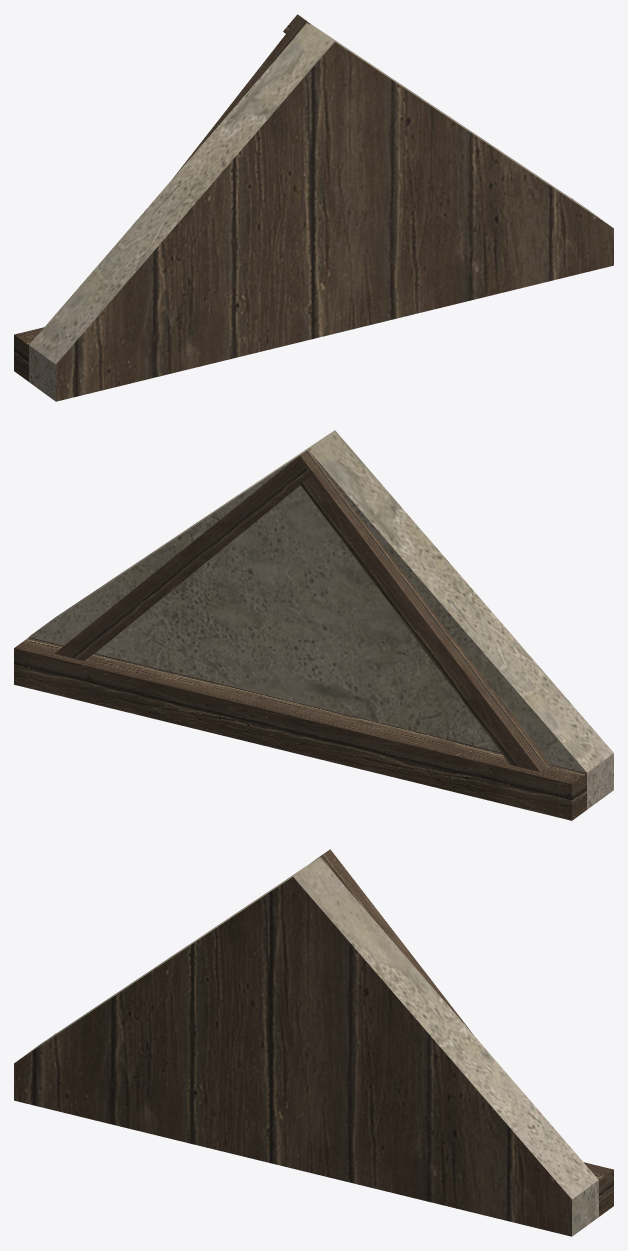
Rendered from ARC1010250.fbx.
3 views of the same model, one above another, from view 1: azimuth 30°, elevation 25°; view 2: azimuth 150°, elevation 25°; view 3: azimuth 330°, elevation 25° (orthographic).
Parts seen in each view (by area): view 1: smARC1010250; view 2: smARC1010250; view 3: smARC1010250.
Boxes of the visible parts, bbox=[...] form: smARC1010250: bbox=[14, 14, 613, 401]; smARC1010250: bbox=[14, 430, 613, 820]; smARC1010250: bbox=[14, 849, 613, 1236].
Size of the model in its own units: 268 by 134 by 34.9.
Materials: 1 (1 with a texture image).
